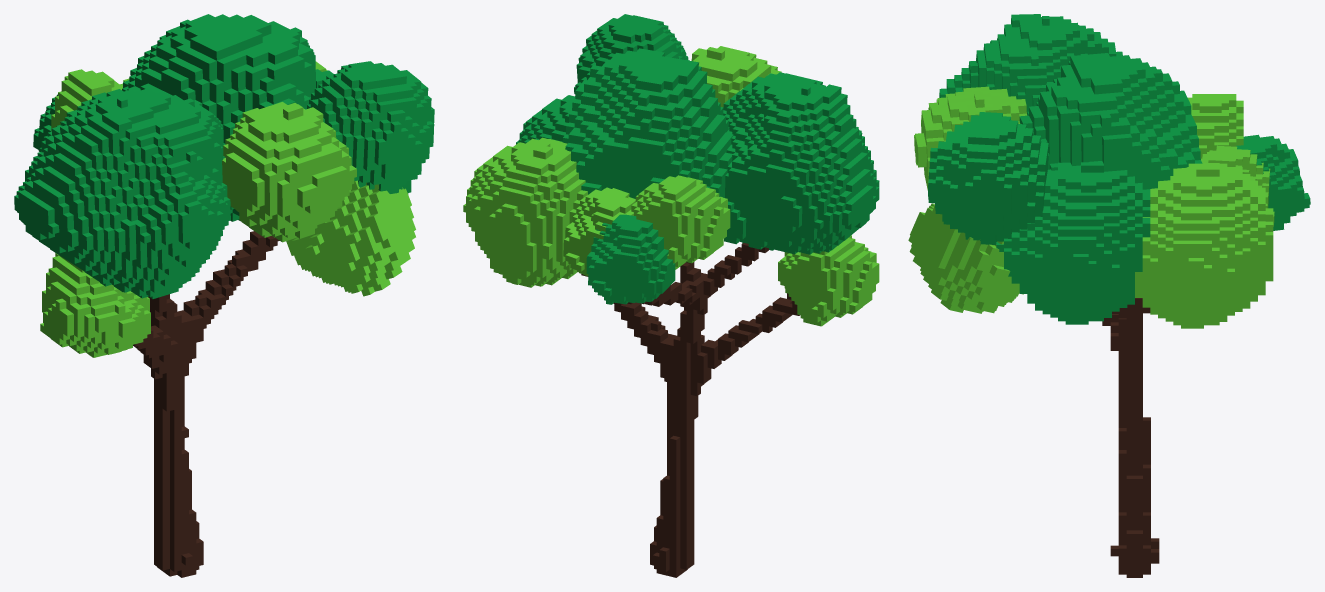
File: BigTree2.fbx
The picture shows the model from 3 angles, left to right: view 1: azimuth 30°, elevation 25°; view 2: azimuth 150°, elevation 25°; view 3: azimuth 270°, elevation 25°; orthographic projection. The views are drawn at different scales.
Parts seen in each view (by area): view 1: Icosphere.006; view 2: Icosphere.006; view 3: Icosphere.006.
Part boxes in pixels (x1,y1,x2,y2): Icosphere.006: [14, 14, 434, 577]; Icosphere.006: [463, 14, 879, 577]; Icosphere.006: [908, 14, 1310, 577].
Size of the model in its own units: 2.74 by 2.67 by 3.8.
